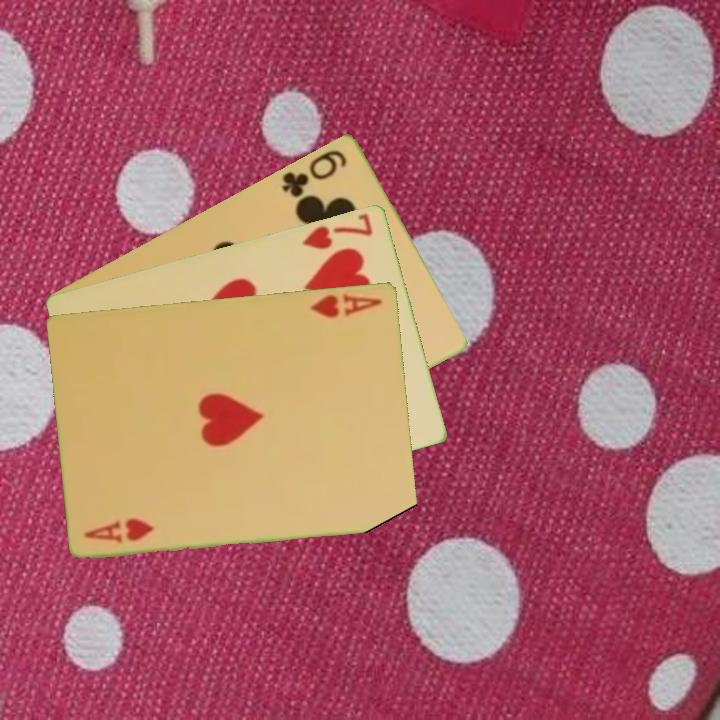6c: (278, 145, 350, 200)
7h: (299, 209, 376, 252)
Ah: (307, 289, 385, 320), (80, 515, 157, 546)
